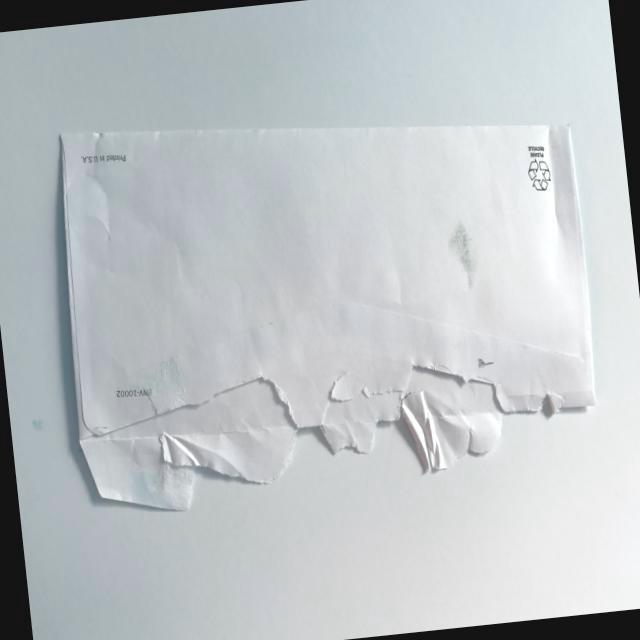paper: (39, 76, 608, 532)
